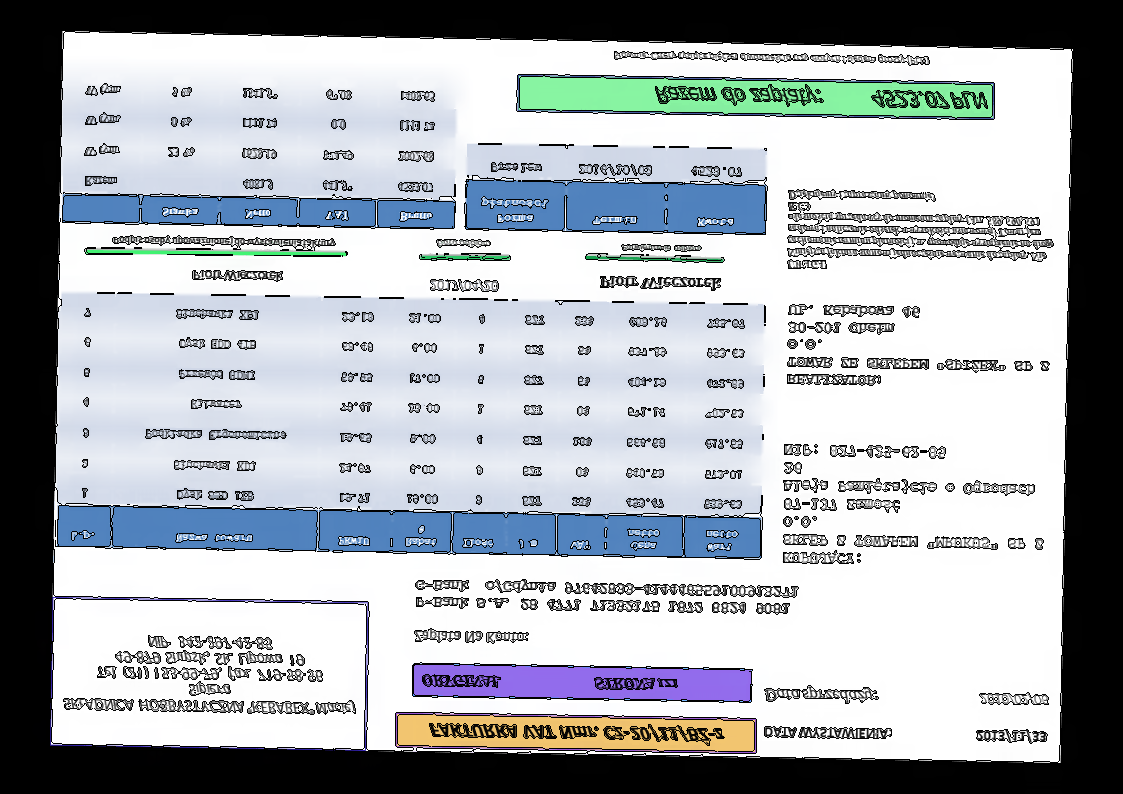Table: (54, 290, 767, 562), (60, 70, 459, 231), (463, 142, 769, 238)
TextBox: (779, 439, 1050, 572), (60, 630, 361, 719), (783, 185, 1060, 278), (784, 300, 1054, 392), (412, 574, 803, 618), (651, 84, 990, 114), (426, 718, 730, 748), (609, 49, 932, 69), (419, 672, 679, 696), (110, 232, 337, 252), (762, 683, 883, 709), (412, 627, 533, 648), (762, 724, 894, 743), (597, 274, 722, 293), (188, 267, 288, 285), (973, 726, 1051, 745), (427, 275, 499, 295), (975, 690, 1052, 708), (619, 241, 702, 255), (433, 236, 492, 252)
